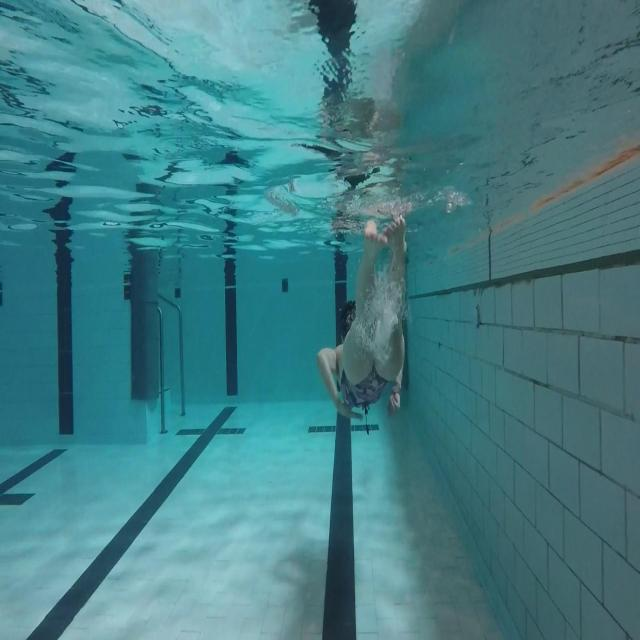human: (316, 214, 409, 422)
